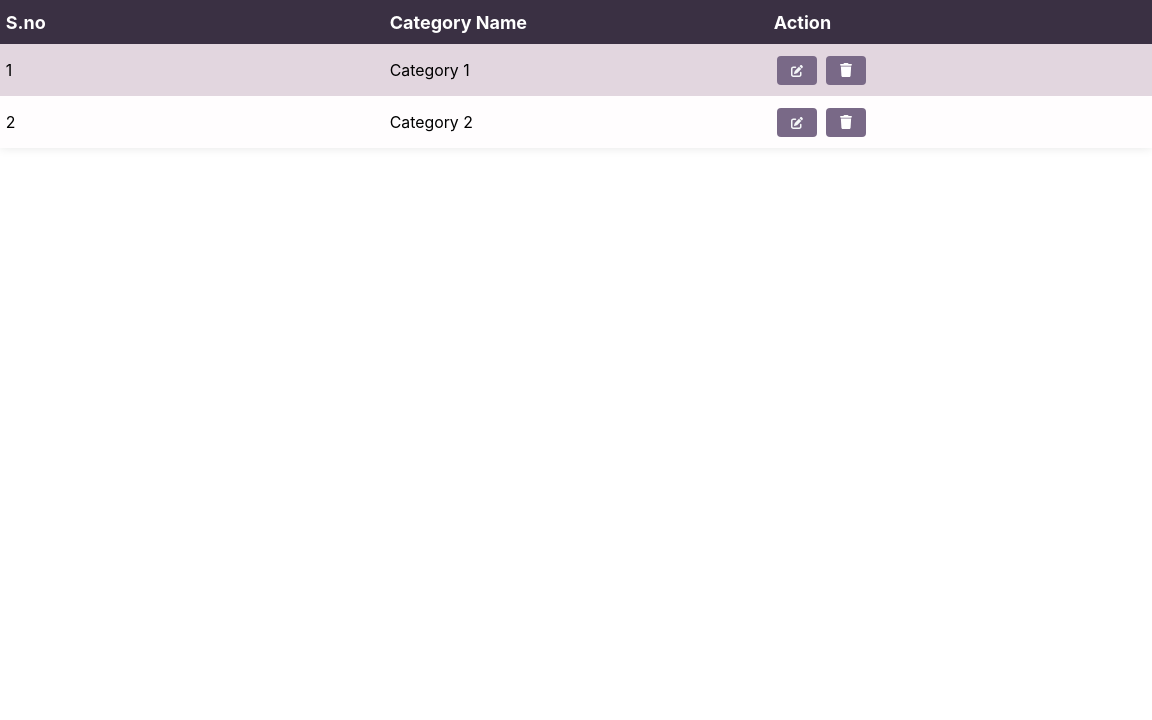
Test: CategoryTable Component › should open and close edit modal
Click the button with alt text "edit" in the row of "Category 1" at (797, 70), box [777,56,817,84]
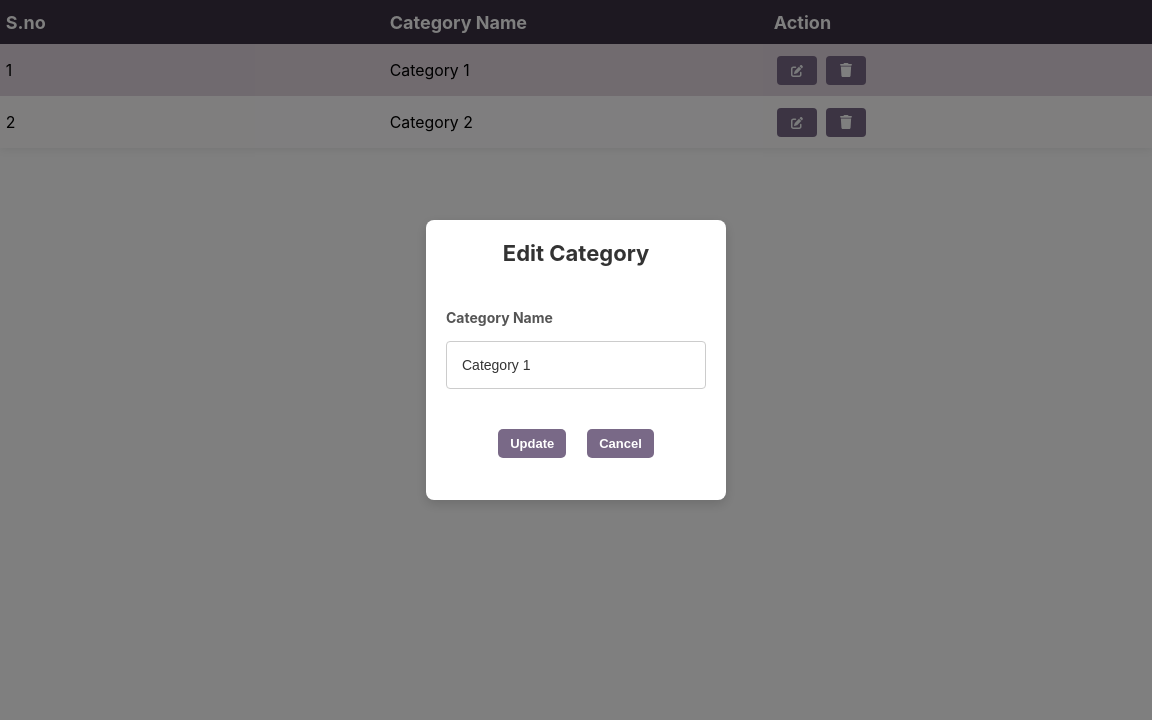
Result: the heading "Edit Category" is shown at [503,240,649,266]
Click the button "Cancel" at (620, 444), box [587,429,654,458]
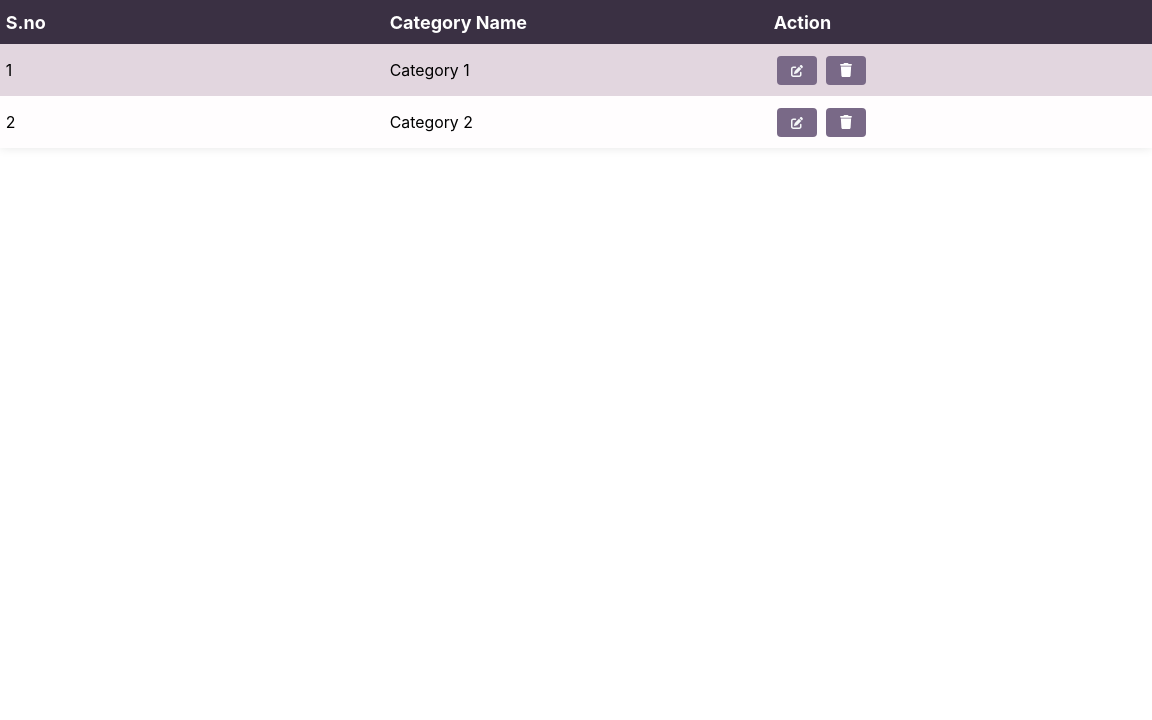
Result: the heading "Edit Category" is gone
